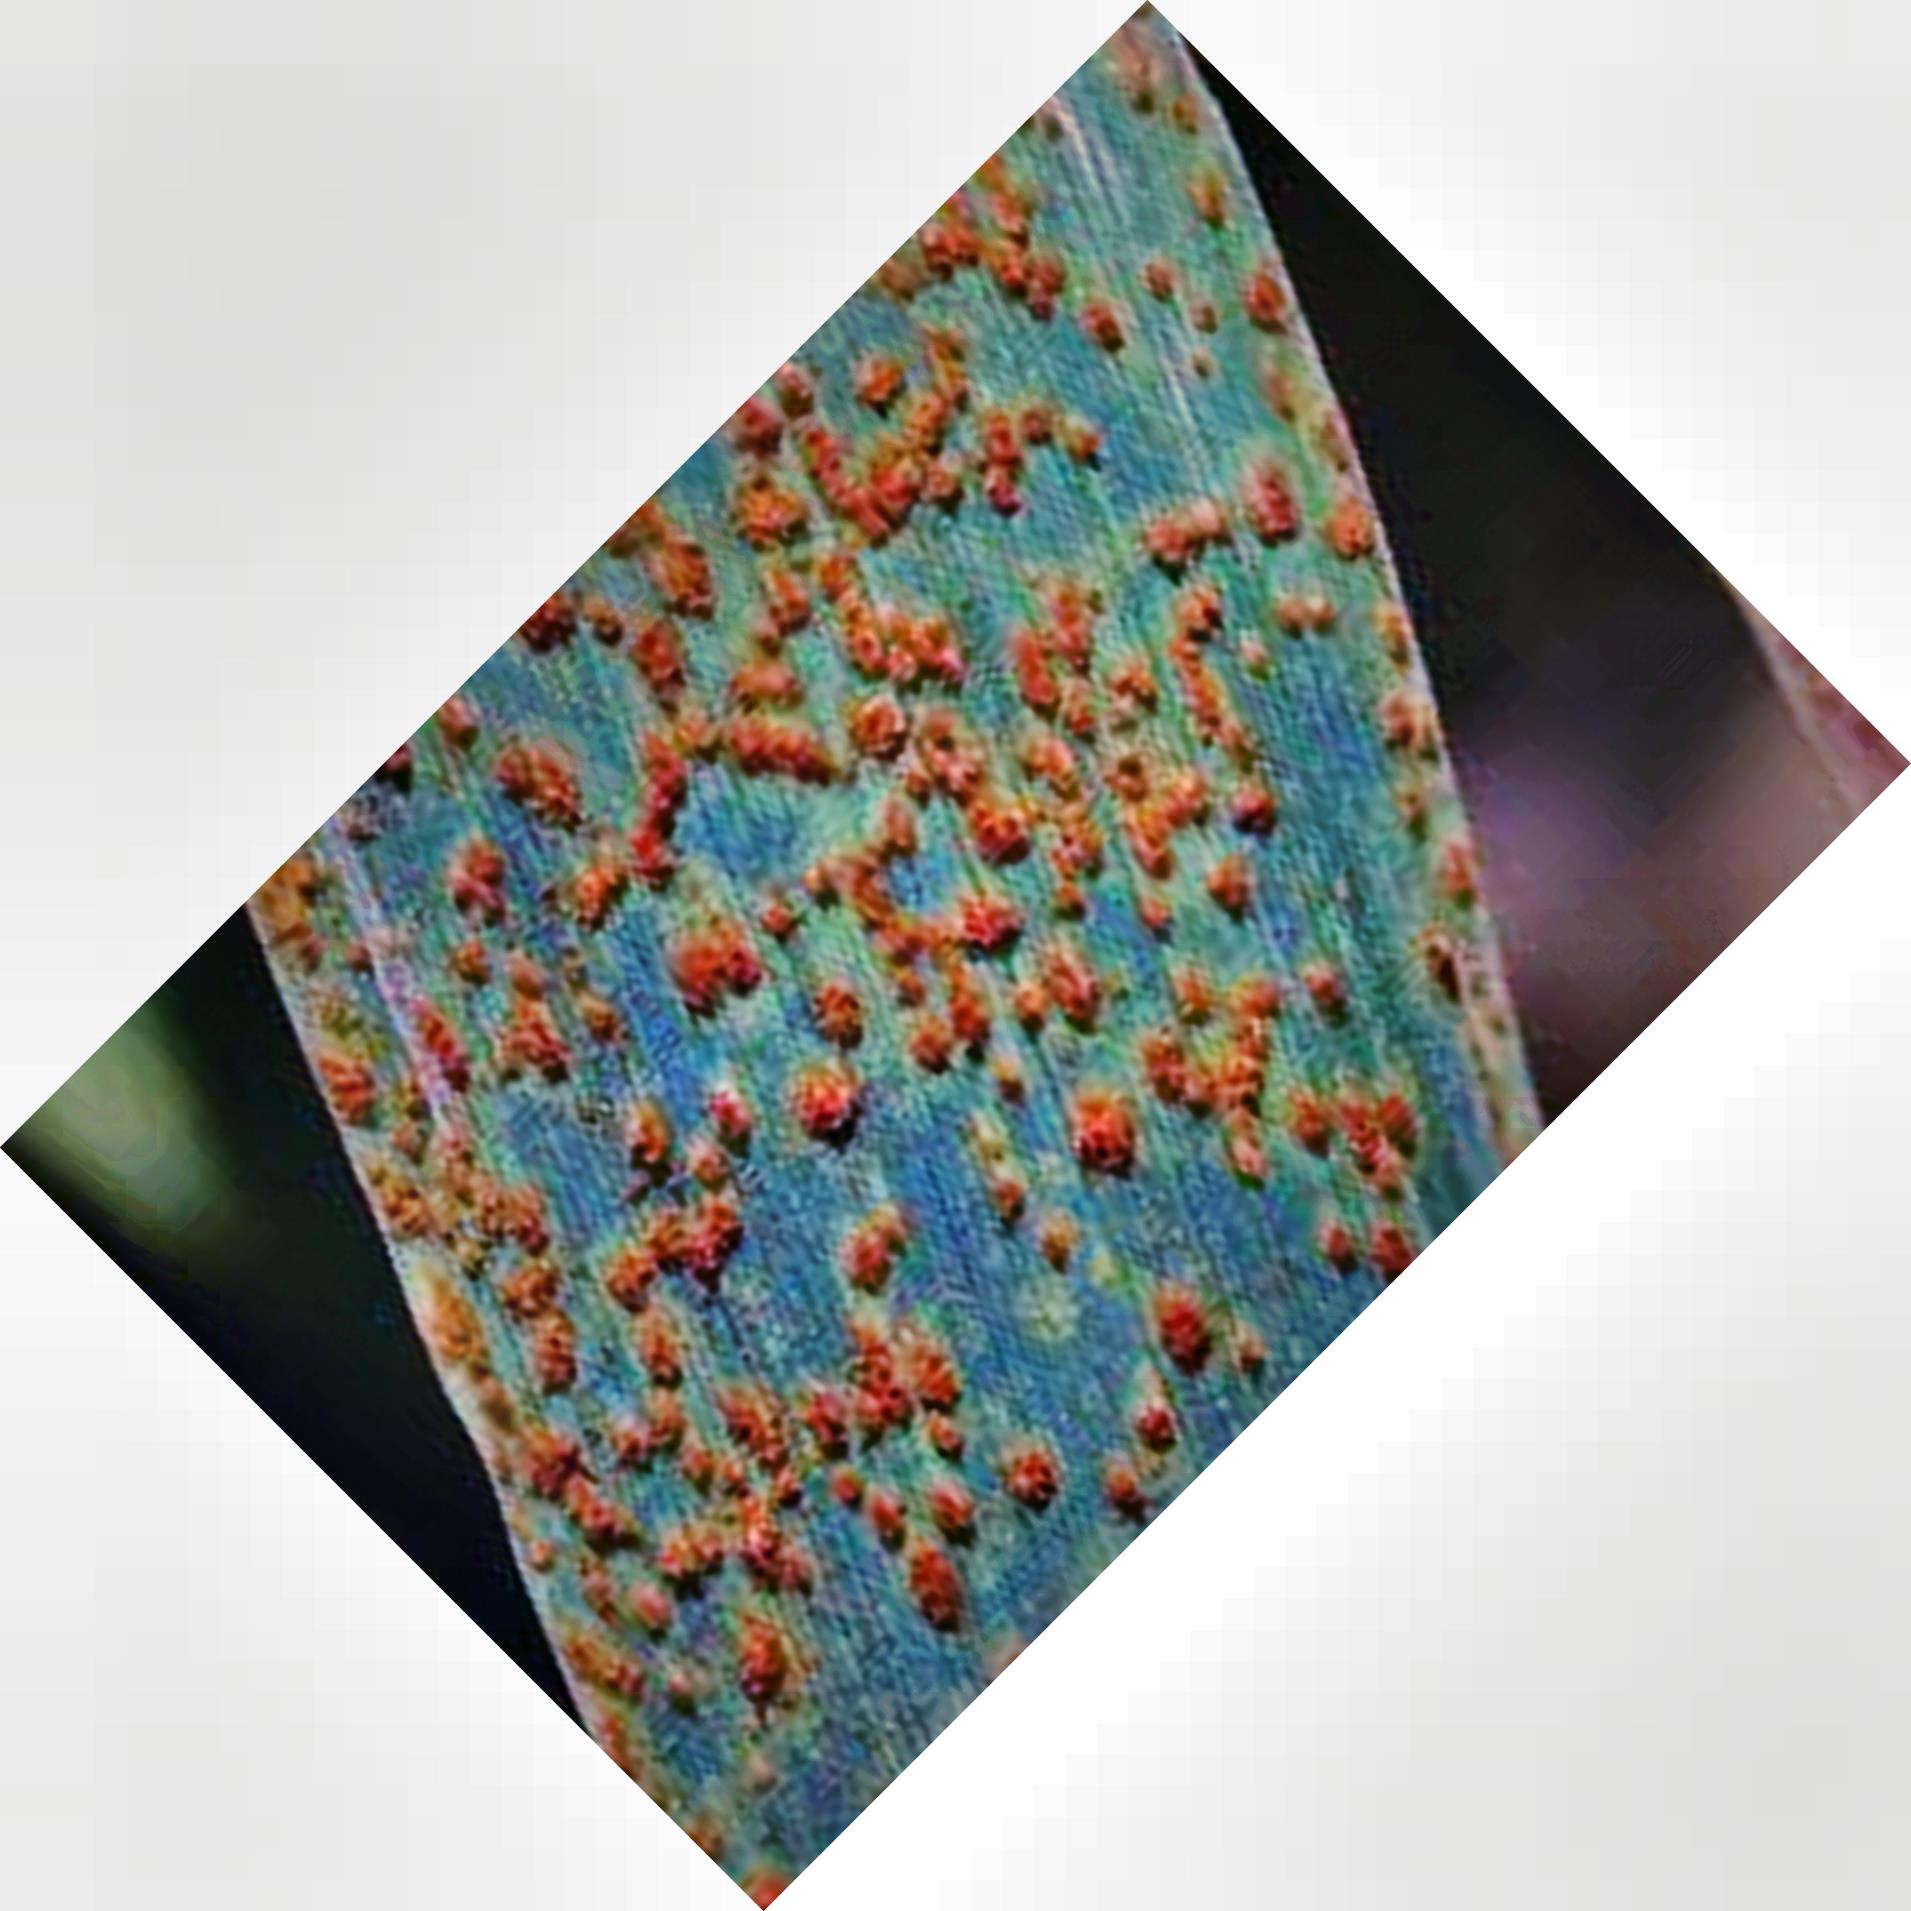Leaf Rust: (542, 247, 1382, 1860)
